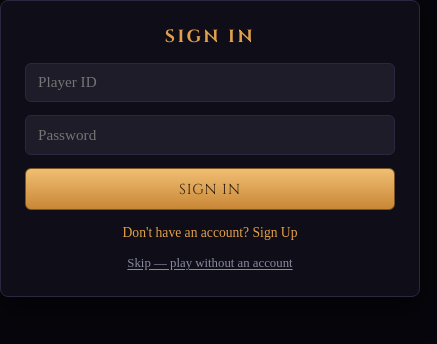
Test: Login component › shows friendly error message on login failure
This screenshot has width=437, height=344.
Type "player1" into the field with placeholder "Player ID" at (210, 82), box [25, 63, 395, 102]
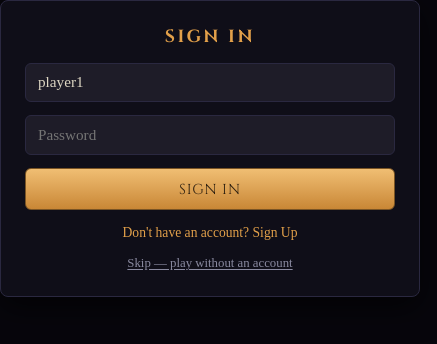
Type "wrong" into the password field with placeholder "Password" at (210, 135), box [25, 115, 395, 155]
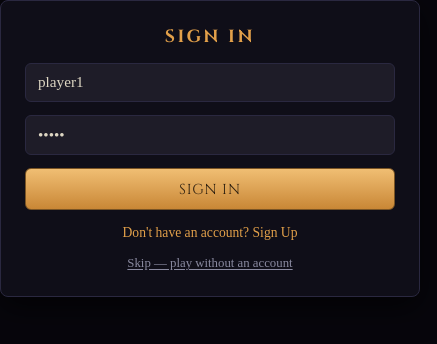
Click the button "Sign In" at (210, 189), box [25, 168, 395, 210]
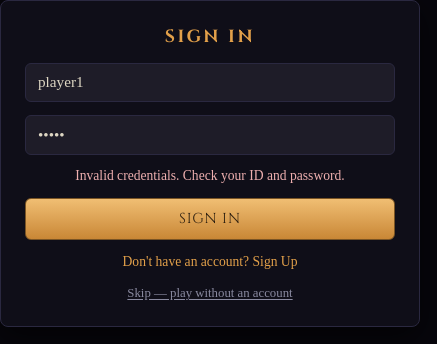
Result: the text "Invalid credentials. Check your ID and password." is shown at [75, 168, 345, 183]
